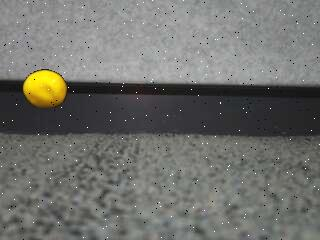Lemon: (23, 69, 67, 109)
